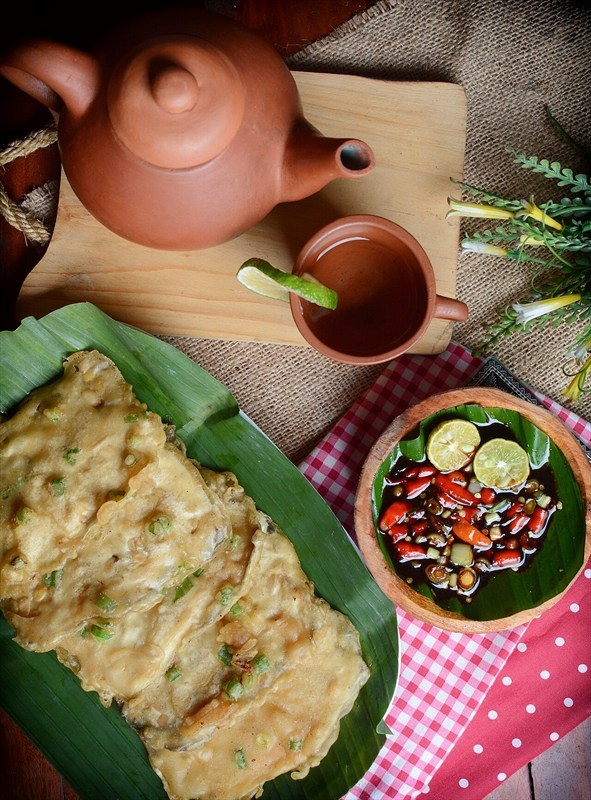Tempe Goreng: (86, 179, 556, 781)
